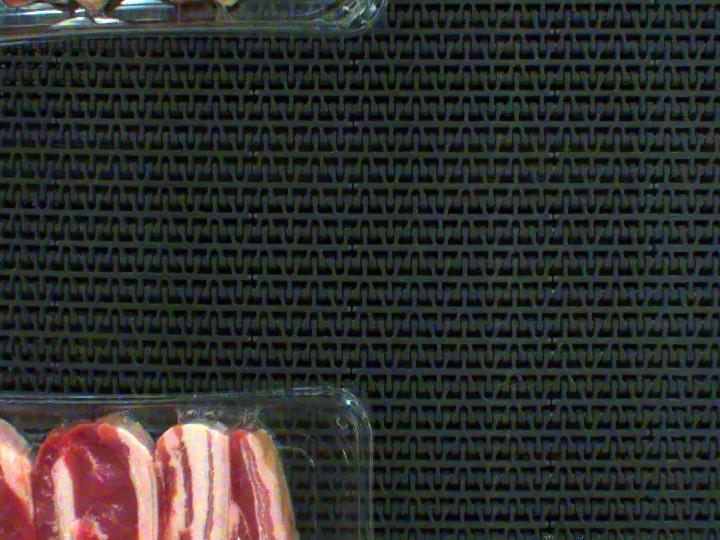packaging-error: (168, 378, 274, 447)
